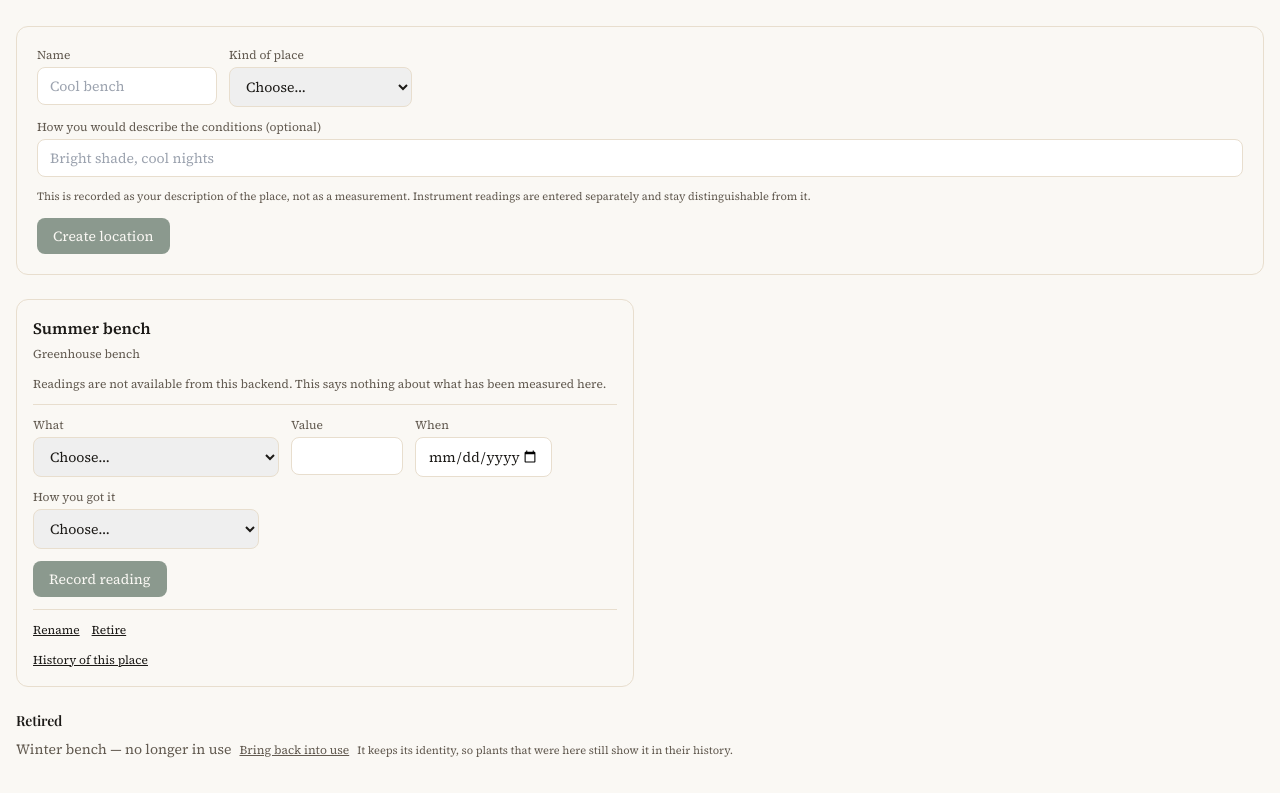
Test: MyConservatory un-retiring a location › reports a refusal rather than appearing to succeed
(page scrolled)
Step 1. Click the button with test id "unretire-loc-gone" → (294, 750), box top-left (240, 742), bottom-right (349, 758)
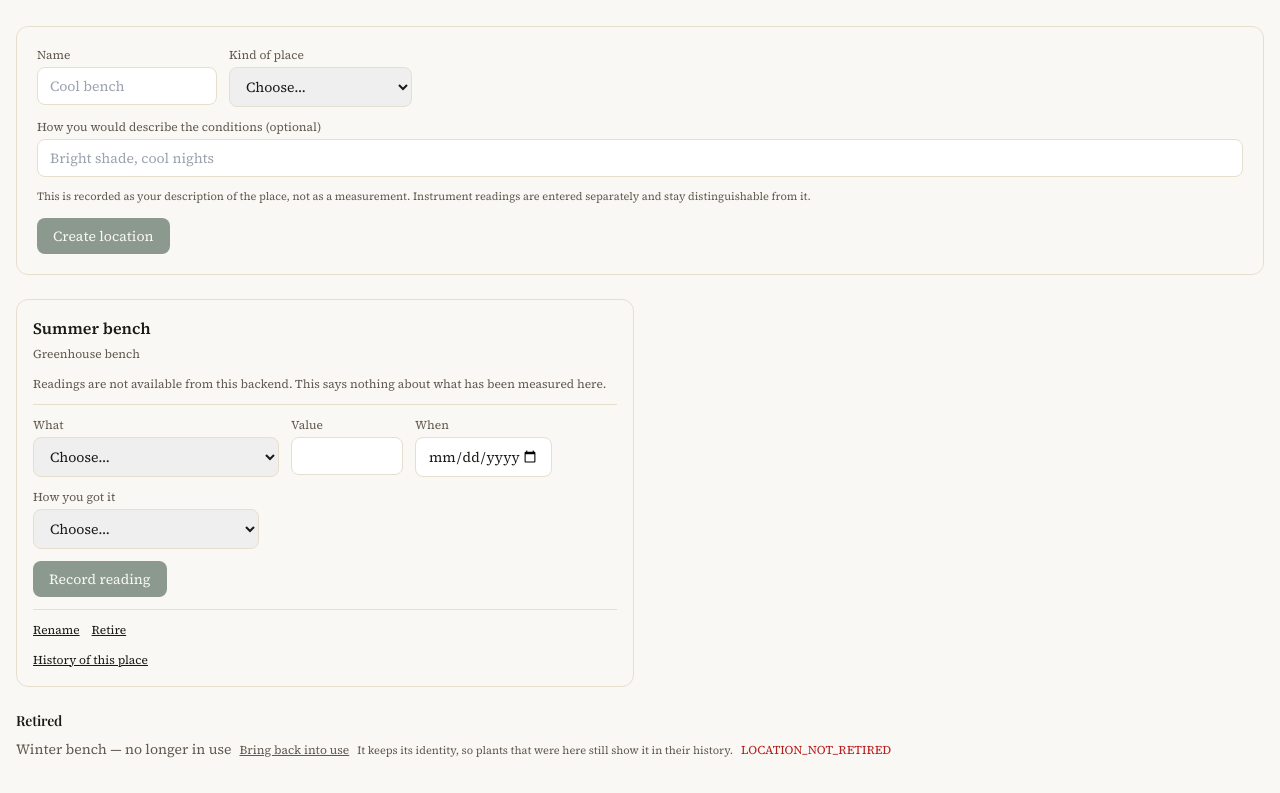
Now the message "LOCATION_NOT_RETIRED" is shown, box top-left (741, 742), bottom-right (891, 758)
